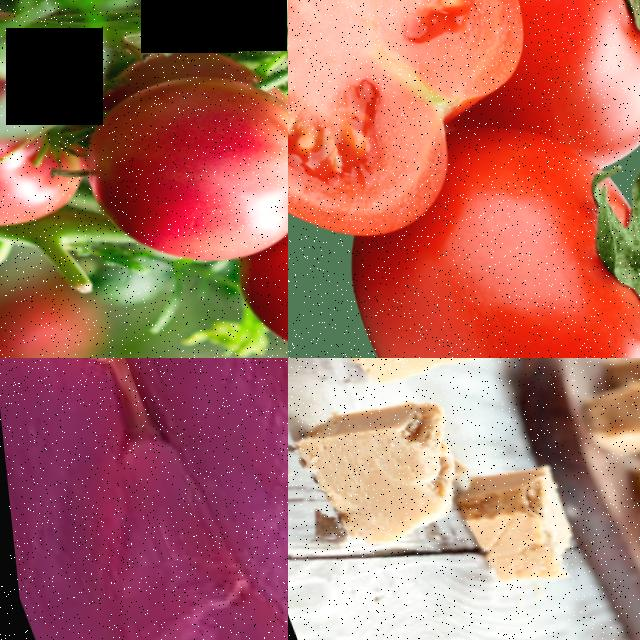tofu: (288, 378, 479, 563), (435, 444, 593, 596), (304, 358, 499, 394)
tomato: (288, 57, 640, 358), (288, 0, 598, 295), (53, 27, 288, 293), (200, 139, 288, 358)
tuna: (0, 409, 288, 640), (102, 358, 288, 640)
